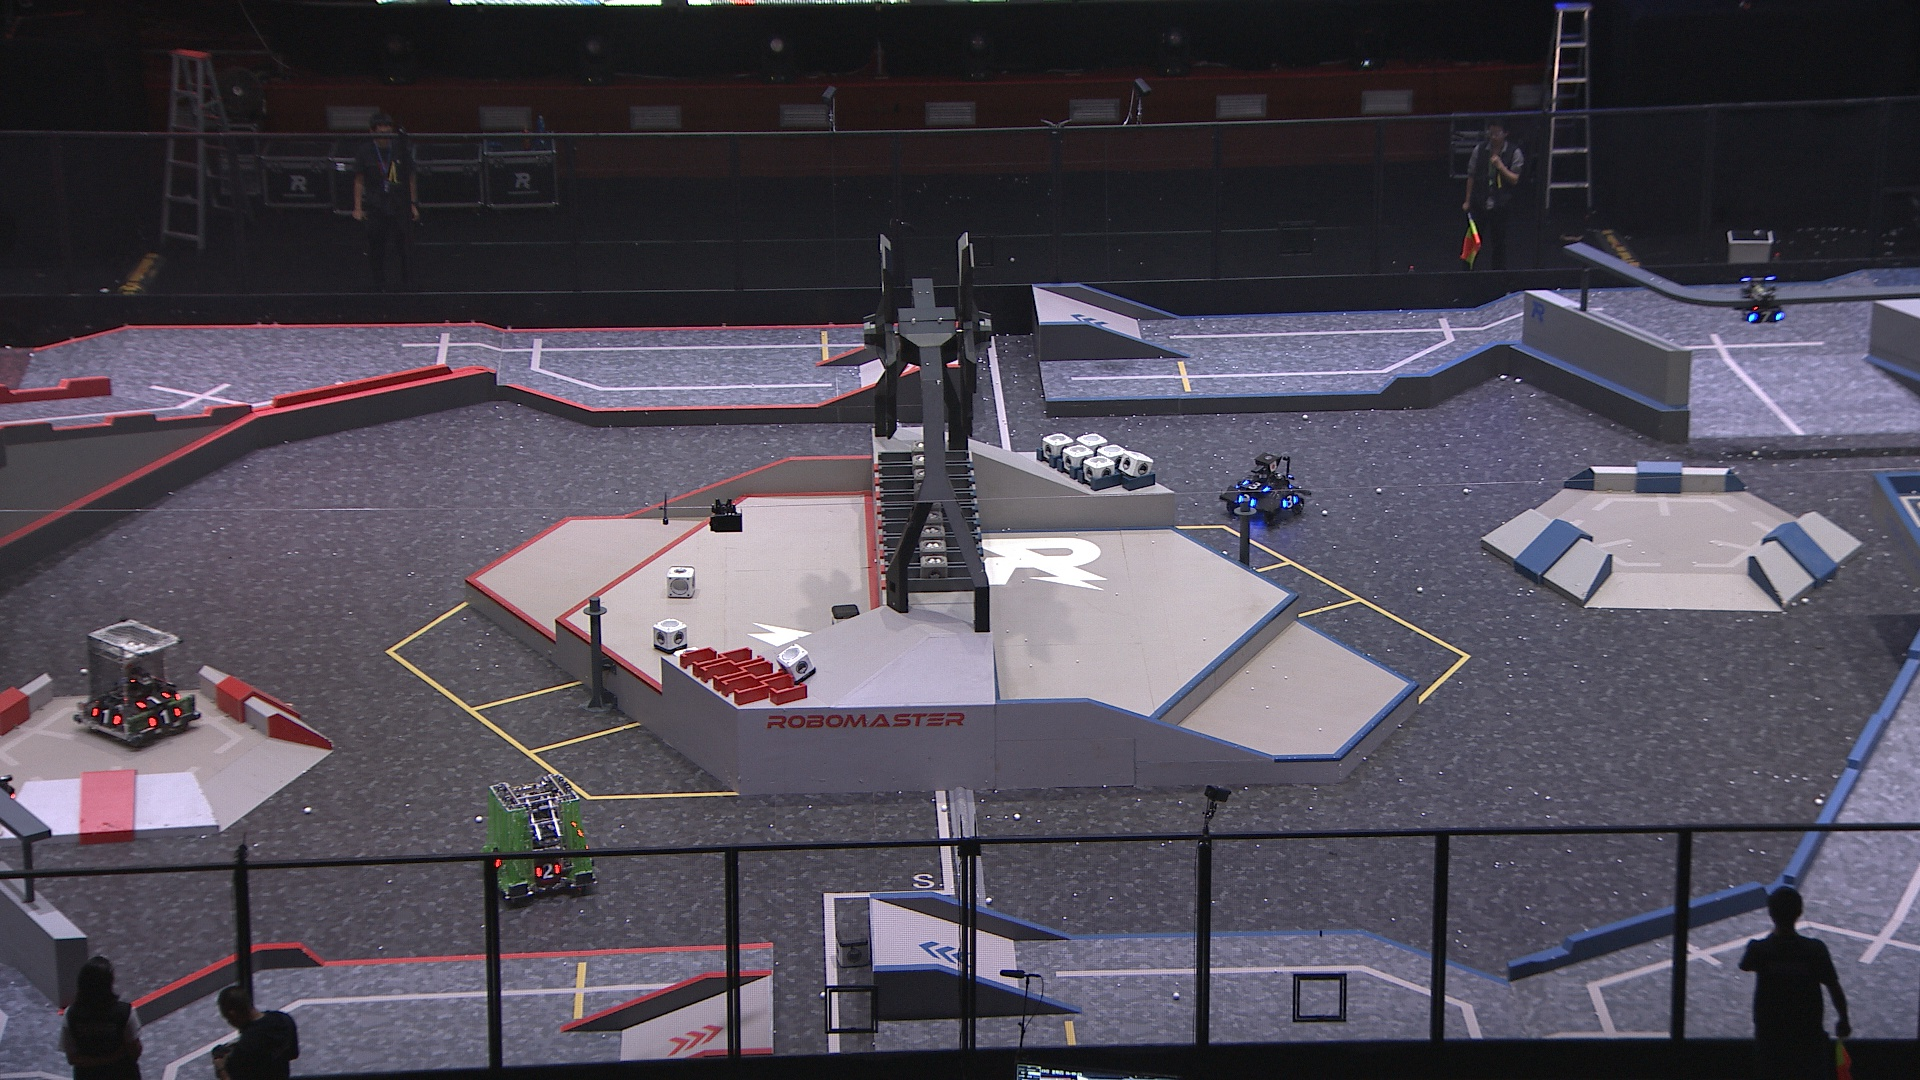armor: (133, 688, 173, 711), (90, 704, 123, 727), (148, 707, 182, 728), (533, 860, 562, 880), (1746, 310, 1784, 323), (1240, 479, 1269, 493), (1236, 493, 1257, 509), (1278, 495, 1300, 509)
car: (69, 617, 200, 750), (479, 774, 603, 905), (1215, 450, 1315, 524)
watcher: (1735, 273, 1788, 324)
